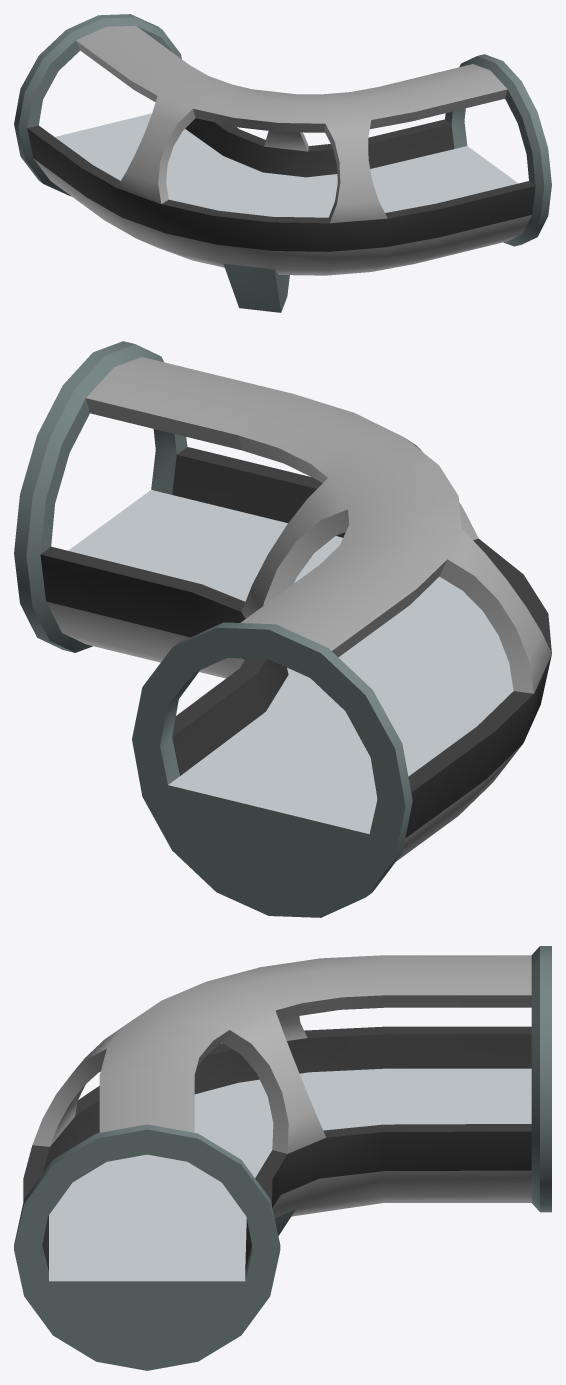
The model's file is m_ConveyorHousing_Turn.fbx.
3 views of the same model, one above another, from view 1: azimuth 30°, elevation 25°; view 2: azimuth 150°, elevation 25°; view 3: azimuth 270°, elevation 25° (orthographic). The views are drawn at different scales.
Visible parts, largest first — view 1: ConveyorHousing_Turn; view 2: ConveyorHousing_Turn; view 3: ConveyorHousing_Turn.
Part boxes in pixels (<box>): ConveyorHousing_Turn: <box>14,14,551,312</box>; ConveyorHousing_Turn: <box>14,341,551,917</box>; ConveyorHousing_Turn: <box>14,946,551,1370</box>.
Bounding box in the file's own units: 66.45 × 38.83 × 66.45.
